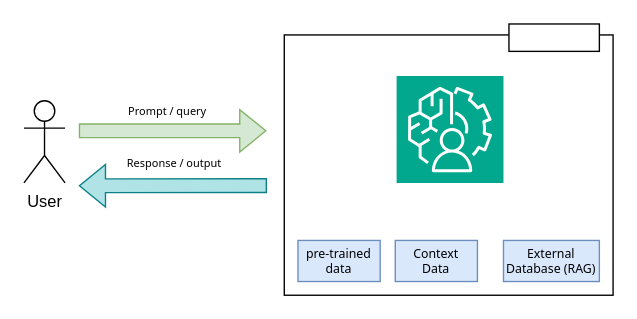
Image size: 637x319. Some labels were removed from this diagram. Here are the shapes that lost their labels. From the top down, the centre of each, then its label:
At (553,37): "AI App".
At (449,129): "Large Language Model".
